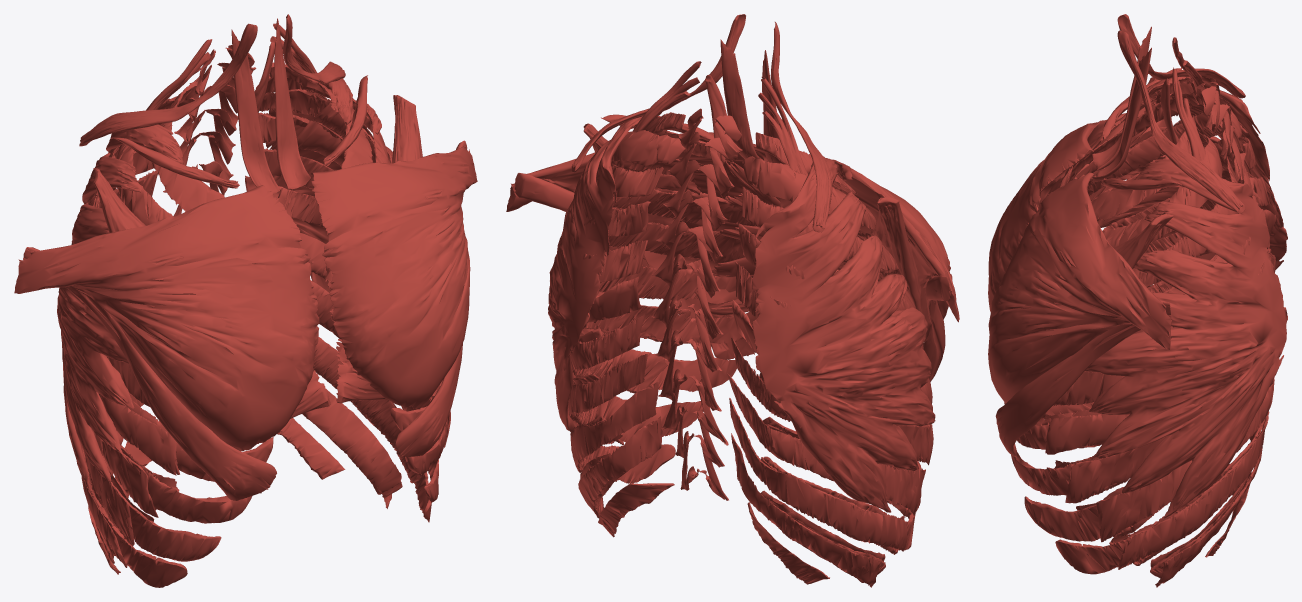
The model's file is muscular.thorax.glb.
The picture shows the model from 3 angles, left to right: view 1: azimuth 30°, elevation 25°; view 2: azimuth 150°, elevation 25°; view 3: azimuth 270°, elevation 25°; orthographic projection. The views are drawn at different scales.
Visible parts, largest first — view 1: sternocostal_part_of_right_pectoralis_major, sternocostal_part_of_left_pectoralis_major, external_intercostal_muscle, internal_intercostal_muscle, right_serratus_anterior, innermost_intercostal_muscle, abdominal_part_of_right_pectoralis_major, thoracic_rotator, right_omohyoid, right_sternothyroid, left_sternothyroid, left_serratus_anterior (+9 smaller); view 2: external_intercostal_muscle, right_serratus_anterior, thoracic_rotator, innermost_intercostal_muscle, left_serratus_anterior, internal_intercostal_muscle, sternocostal_part_of_right_pectoralis_major, sternocostal_part_of_left_pectoralis_major, right_pectoralis_minor, abdominal_part_of_left_pectoralis_major, right_omohyoid, left_transversus_thoracis (+8 smaller); view 3: left_serratus_anterior, external_intercostal_muscle, sternocostal_part_of_left_pectoralis_major, internal_intercostal_muscle, innermost_intercostal_muscle, sternocostal_part_of_right_pectoralis_major, abdominal_part_of_left_pectoralis_major, right_serratus_anterior, left_omohyoid, thoracic_rotator, left_sternothyroid, right_omohyoid (+8 smaller).
Part boxes in pixels (x1,y1,x2,y2): sternocostal_part_of_right_pectoralis_major: (14,185,319,451); sternocostal_part_of_left_pectoralis_major: (311,146,477,409); external_intercostal_muscle: (81,62,450,574); internal_intercostal_muscle: (83,121,448,587); right_serratus_anterior: (57,124,183,492); innermost_intercostal_muscle: (85,102,439,558); abdominal_part_of_right_pectoralis_major: (23,247,276,500); thoracic_rotator: (163,45,256,216); right_omohyoid: (79,23,257,146); right_sternothyroid: (231,29,279,193); left_sternothyroid: (274,18,310,189); left_serratus_anterior: (265,78,431,410); external_intercostal_muscle: (568,112,933,587); right_serratus_anterior: (752,156,935,512); thoracic_rotator: (651,108,742,500); innermost_intercostal_muscle: (573,189,923,582); left_serratus_anterior: (548,116,660,431); internal_intercostal_muscle: (574,189,926,584); sternocostal_part_of_right_pectoralis_major: (828,158,959,342); sternocostal_part_of_left_pectoralis_major: (506,132,791,317); right_pectoralis_minor: (870,196,921,312); abdominal_part_of_left_pectoralis_major: (515,173,755,359); right_omohyoid: (770,22,832,232); left_transversus_thoracis: (710,160,780,315); left_serratus_anterior: (1085,159,1287,518); external_intercostal_muscle: (1045,77,1276,587); sternocostal_part_of_left_pectoralis_major: (988,172,1172,403); internal_intercostal_muscle: (1004,121,1264,578); innermost_intercostal_muscle: (1035,112,1271,567); sternocostal_part_of_right_pectoralis_major: (988,113,1171,312); abdominal_part_of_left_pectoralis_major: (995,302,1171,456); right_serratus_anterior: (1097,76,1287,283); left_omohyoid: (1117,30,1245,213); thoracic_rotator: (1201,77,1257,201); left_sternothyroid: (1092,47,1151,181); right_omohyoid: (1117,14,1245,98).
Bounding box in the file's own units: 0.3757 × 0.4157 × 0.2246.
